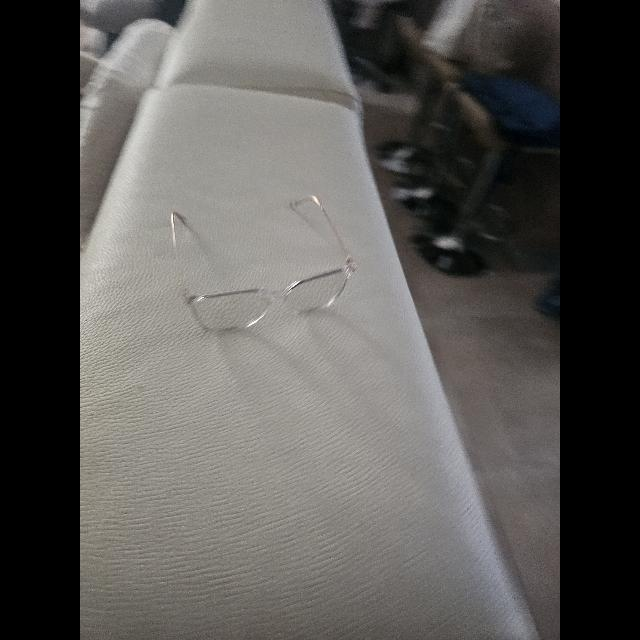glasses: (172, 196, 356, 330)
